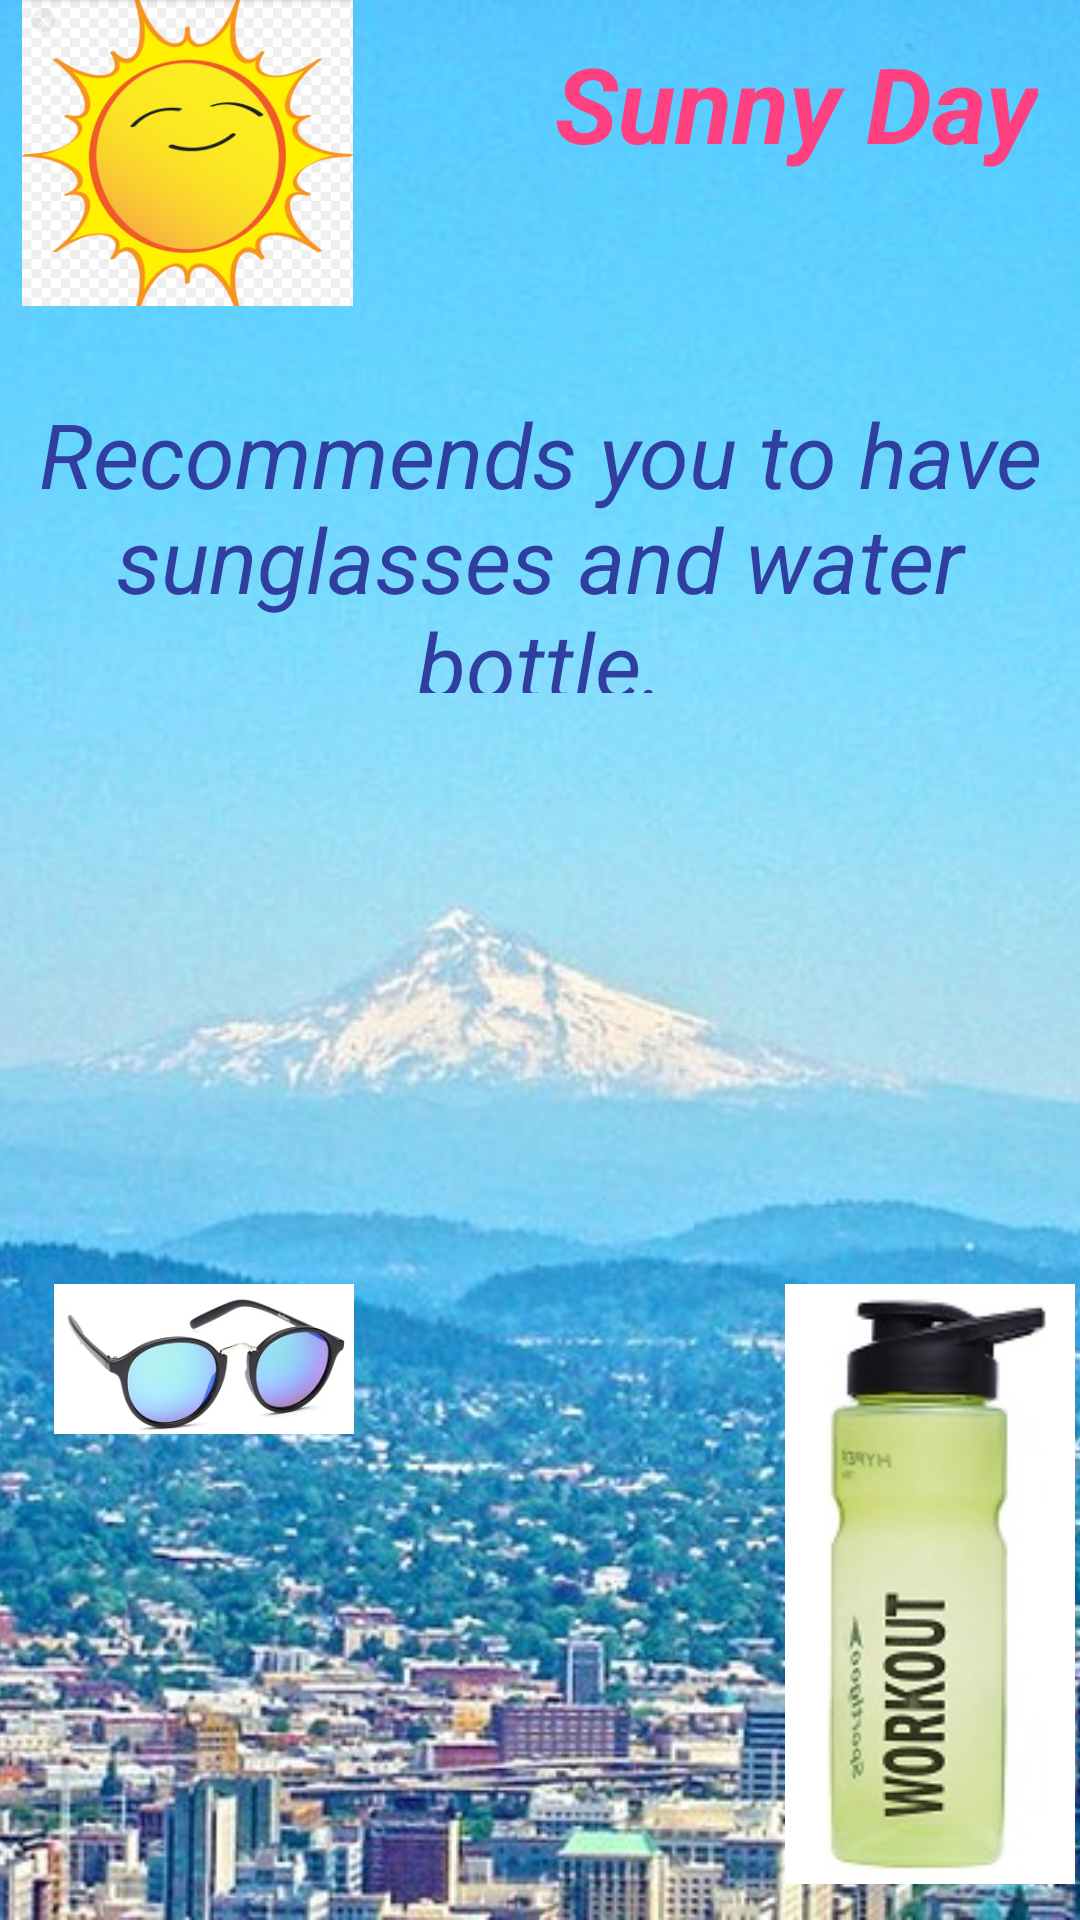

Where to tap for icons on this 1080x1920 app screen, as [x,y]:
sunglasses: [204,1359]
sunny: [187,153]
